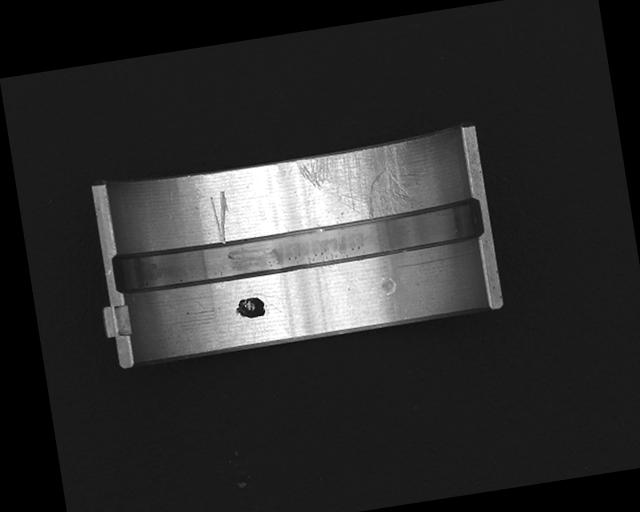blot: (233, 294, 267, 320)
bruise: (378, 273, 397, 297)
gap: (110, 197, 485, 297)
nick: (208, 189, 235, 245)
scratch: (297, 138, 425, 230)
